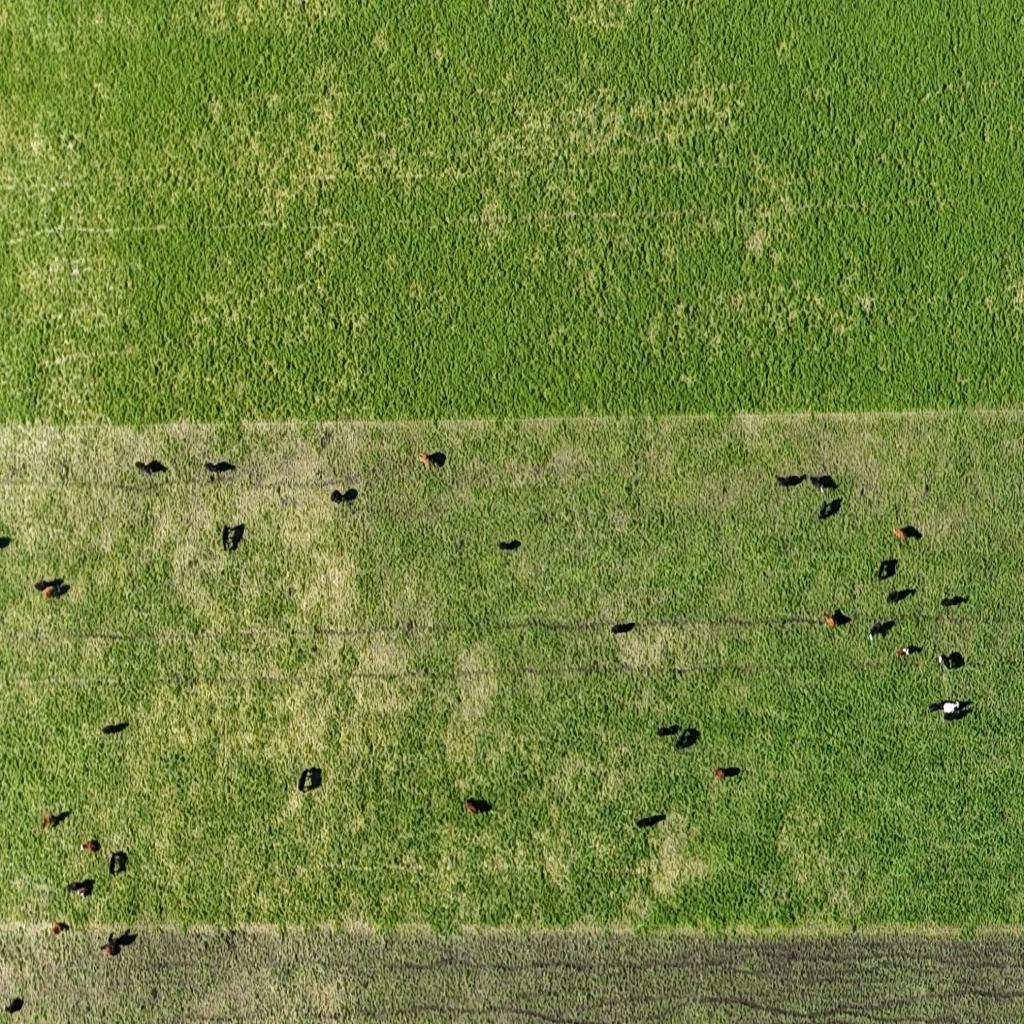cow: (807, 474, 839, 494), (818, 496, 842, 521), (674, 727, 700, 750), (635, 812, 665, 830), (135, 459, 168, 475), (108, 850, 128, 876), (887, 586, 915, 604), (204, 460, 235, 476), (465, 797, 491, 816), (419, 451, 445, 470), (776, 474, 808, 488), (331, 487, 357, 504), (877, 558, 897, 580), (713, 766, 741, 781), (5, 996, 23, 1015), (80, 836, 97, 856), (940, 595, 966, 608), (298, 765, 310, 793), (656, 724, 680, 738), (610, 621, 634, 635), (41, 813, 58, 832), (220, 523, 230, 553), (41, 584, 60, 599), (868, 621, 882, 641), (927, 698, 944, 714), (498, 539, 520, 551), (894, 645, 912, 659), (823, 609, 835, 628), (893, 526, 907, 542), (943, 700, 960, 713), (939, 653, 951, 671), (101, 721, 116, 735), (109, 936, 119, 957), (64, 881, 84, 891), (50, 922, 64, 936), (100, 942, 112, 958), (943, 712, 958, 722)
